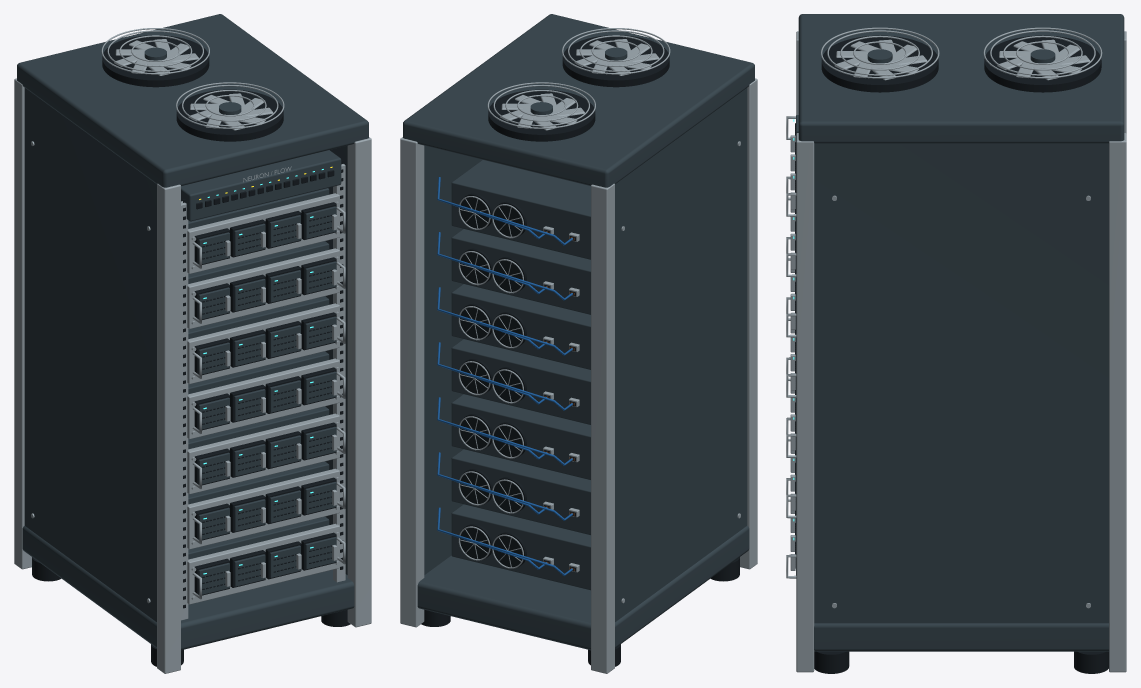
Rendered from rack-cooled.glb.
The picture shows the model from 3 angles, left to right: view 1: azimuth 30°, elevation 25°; view 2: azimuth 150°, elevation 25°; view 3: azimuth 270°, elevation 25°; orthographic projection. The views are drawn at different scales.
Visible parts, largest first — view 1: SM_Rack_Chassis, SM_Rack_Cooling, SM_Compute_Module_02, SM_Compute_Module_01, SM_Compute_Module_04, SM_Compute_Module_05, SM_Compute_Module_06, SM_Compute_Module_03, SM_Compute_Module_07, SM_Rack_Management; view 2: SM_Rack_Chassis, SM_Rack_Cooling, SM_Compute_Module_07, SM_Compute_Module_03, SM_Compute_Module_02, SM_Compute_Module_04, SM_Compute_Module_01, SM_Compute_Module_05, SM_Compute_Module_06; view 3: SM_Rack_Chassis, SM_Rack_Cooling, SM_Compute_Module_07, SM_Compute_Module_05, SM_Compute_Module_02, SM_Compute_Module_06, SM_Compute_Module_04, SM_Compute_Module_03, SM_Compute_Module_01.
Boxes of the visible parts, box(x1,y1,x2,y2) form: SM_Rack_Chassis: box(14, 14, 371, 673); SM_Rack_Cooling: box(101, 28, 284, 141); SM_Compute_Module_02: box(187, 461, 345, 549); SM_Compute_Module_01: box(187, 516, 345, 604); SM_Compute_Module_04: box(187, 351, 345, 439); SM_Compute_Module_05: box(187, 296, 345, 384); SM_Compute_Module_06: box(187, 241, 345, 329); SM_Compute_Module_03: box(187, 406, 345, 494); SM_Compute_Module_07: box(187, 188, 345, 273); SM_Rack_Management: box(181, 150, 341, 221); SM_Rack_Chassis: box(400, 14, 757, 673); SM_Rack_Cooling: box(487, 28, 670, 141); SM_Compute_Module_07: box(437, 160, 590, 259); SM_Compute_Module_03: box(437, 394, 590, 479); SM_Compute_Module_02: box(437, 449, 590, 535); SM_Compute_Module_04: box(437, 339, 590, 424); SM_Compute_Module_01: box(437, 504, 590, 590); SM_Compute_Module_05: box(437, 284, 590, 369); SM_Compute_Module_06: box(437, 229, 590, 314); SM_Rack_Chassis: box(796, 14, 1126, 673); SM_Rack_Cooling: box(820, 27, 1102, 92); SM_Compute_Module_07: box(786, 115, 798, 216); SM_Compute_Module_05: box(786, 237, 796, 337); SM_Compute_Module_02: box(786, 417, 796, 518); SM_Compute_Module_06: box(786, 176, 796, 277); SM_Compute_Module_04: box(786, 297, 796, 397); SM_Compute_Module_03: box(786, 357, 796, 457); SM_Compute_Module_01: box(786, 478, 796, 578).
Size of the model in its own units: 0.805 by 1.93 by 1.05.
